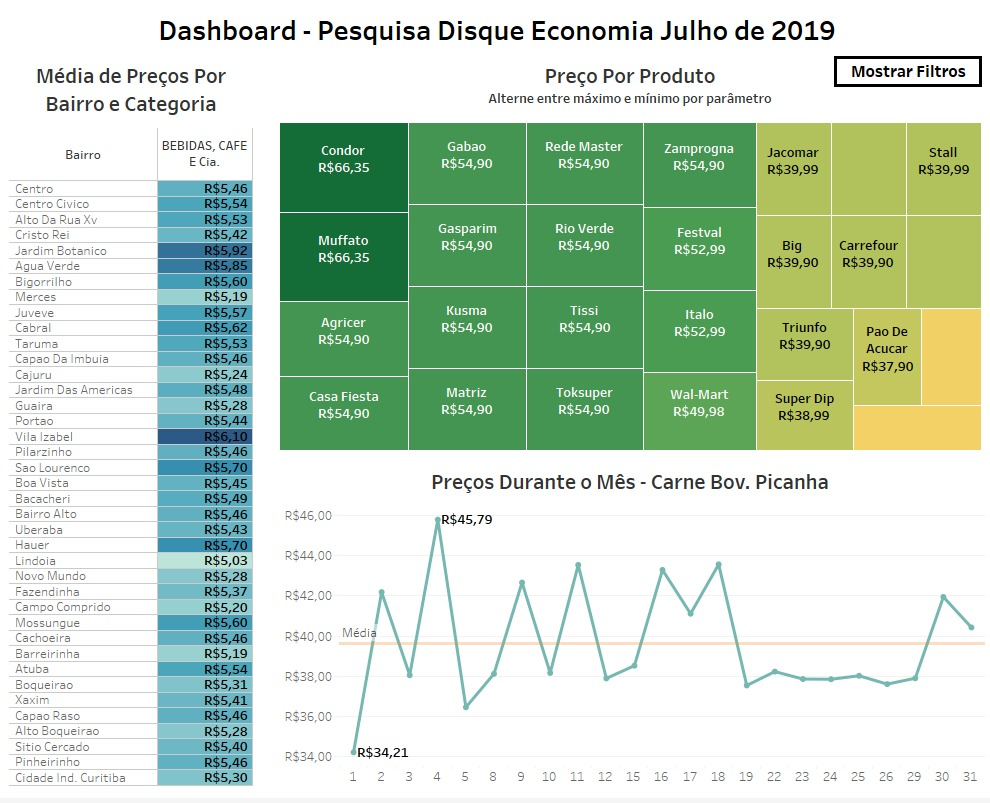

The dashboard page shown, as its layout file describes it:
{"tool":"tableau","page":{"name":"Painel 2","canvas":[1000,800],"ordinal":1},"visuals":[{"type":"text","box":[8,8,984,47]},{"type":"worksheet","title":"Média de Preços Por Bairro e Categoria","mark":"Square","rows":["cd_bairro","ds_bairro"],"cols":["ds_categoria"],"box":[8,55,266,737]},{"type":"worksheet","title":"Planilha 10","mark":"Automatic","box":[274,55,718,406]},{"type":"dashboard-object","box":[837,58,148,31]},{"type":"parameter","param":"[Parameters].[Parâmetro 1]","box":[838,90,146,70]},{"type":"filter","title":"Planilha 10","param":"[federated.1x7321l0k0bvtz11mo9ry00vpsfd].[none:ds_produto:nk]","box":[838,160,146,52]},{"type":"filter","title":"Média de Preços Por Bairro e Categoria","param":"[federated.1x7321l0k0bvtz11mo9ry00vpsfd].[none:ds_categoria:nk]","box":[838,212,146,52]},{"type":"worksheet","title":"Preço dos Produtos Por Dia","mark":"Automatic","rows":["ds_produto","vl_preco_pesquisado"],"cols":["dt_referencia"],"box":[274,461,718,331]}]}

Visuals, with their boxes in screenshot pixels (x1, y1, x2, y2), scaled from the page's 1000x800 canvas onto the 990x803 screenshot:
text: {"x1": 8, "y1": 8, "x2": 982, "y2": 55}
"Média de Preços Por Bairro e Categoria" worksheet (Square marks): {"x1": 8, "y1": 55, "x2": 271, "y2": 795}
"Planilha 10" worksheet: {"x1": 271, "y1": 55, "x2": 982, "y2": 463}
dashboard-object: {"x1": 829, "y1": 58, "x2": 975, "y2": 89}
parameter: {"x1": 830, "y1": 90, "x2": 974, "y2": 161}
"Planilha 10" filter: {"x1": 830, "y1": 161, "x2": 974, "y2": 213}
"Média de Preços Por Bairro e Categoria" filter: {"x1": 830, "y1": 213, "x2": 974, "y2": 265}
"Preço dos Produtos Por Dia" worksheet: {"x1": 271, "y1": 463, "x2": 982, "y2": 795}
